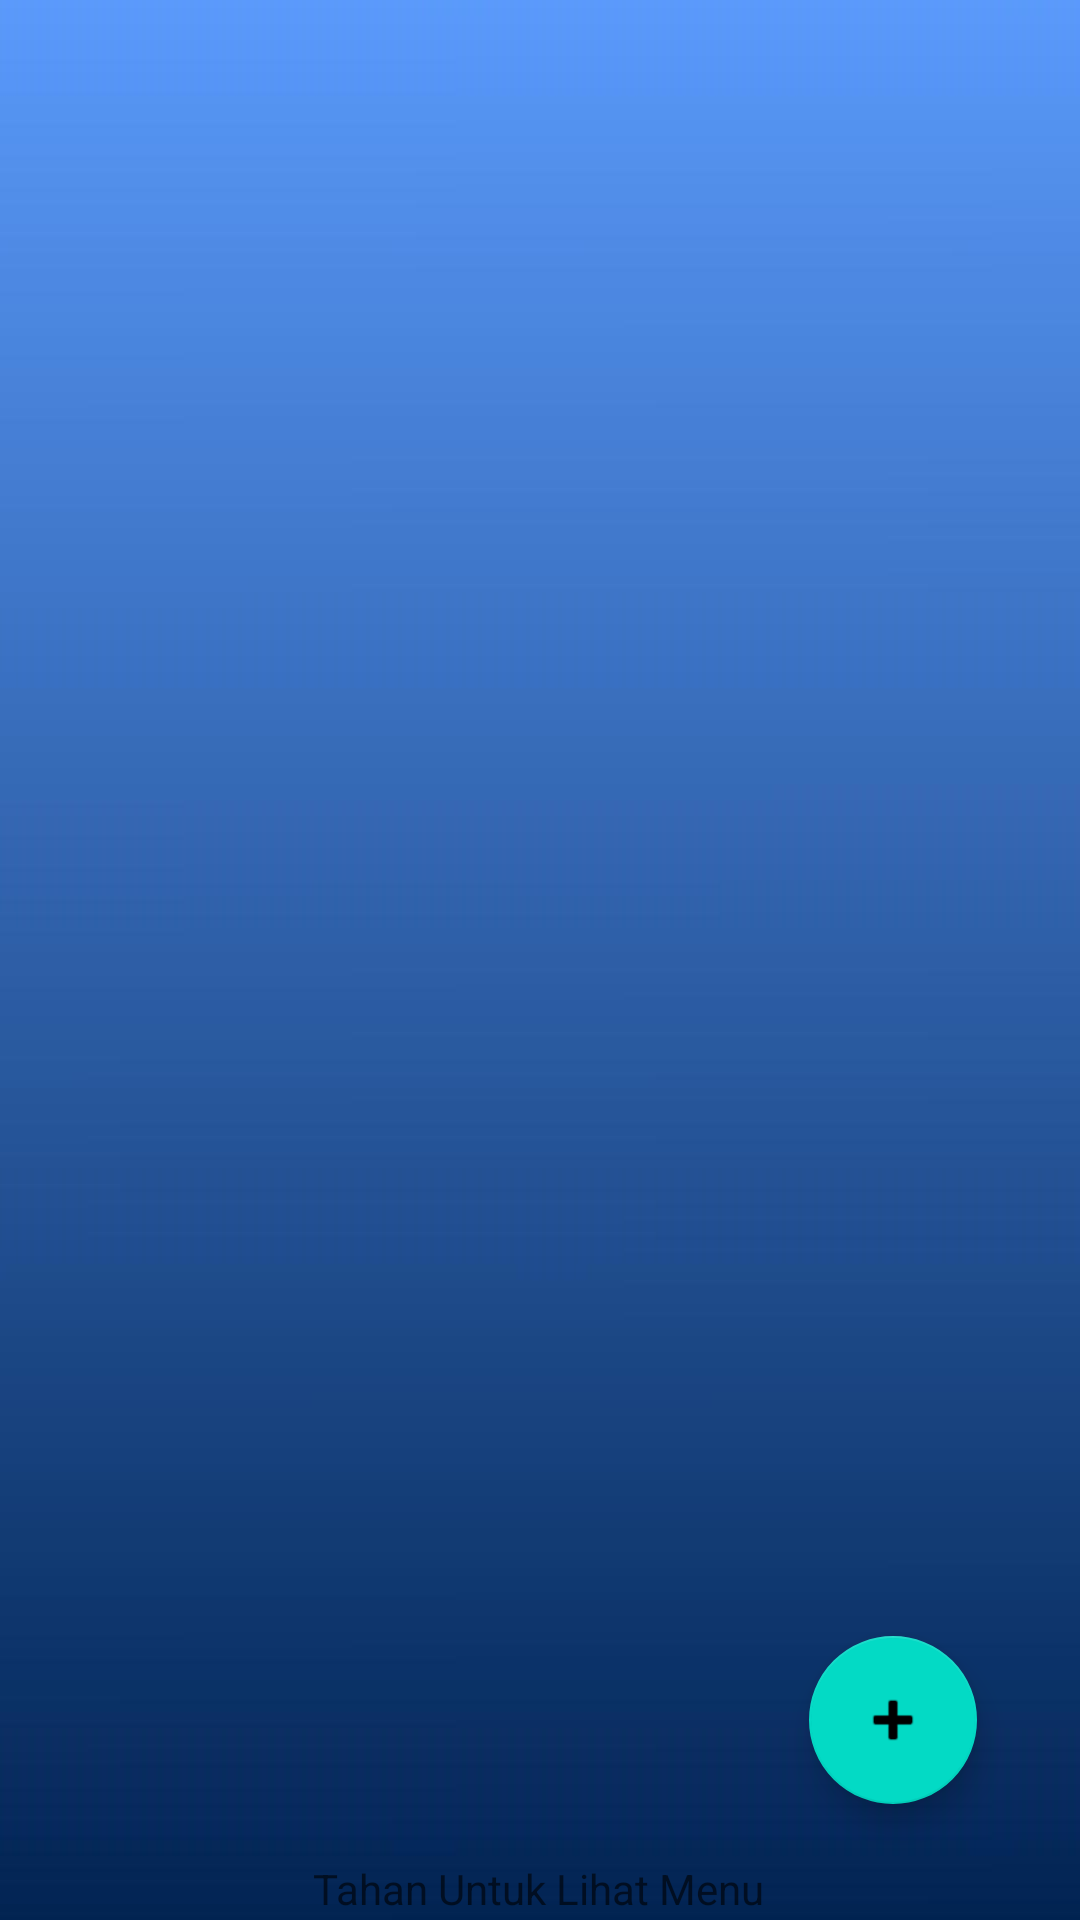

Icons on this 1080×1920 Android screen, each with the point to tap as point (x, y):
add: point (893, 1720)
